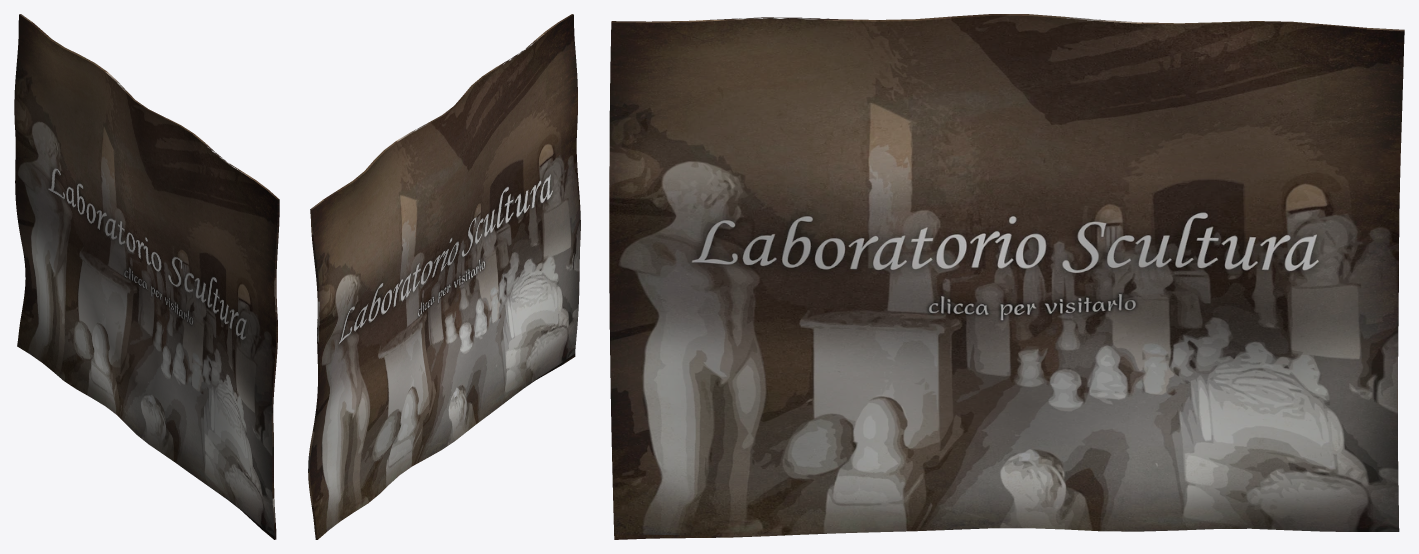
Rendered from labscultura-v1.glb.
3 renders of one model, left to right at view 1: azimuth 30°, elevation 25°; view 2: azimuth 150°, elevation 25°; view 3: azimuth 270°, elevation 25°, orthographic. The views are drawn at different scales.
Visible parts, largest first — view 1: LabArt: Poster lab arte; view 2: LabArt: Poster lab arte; view 3: LabArt: Poster lab arte.
Boxes of the visible parts, x1,y1,x2,y2 form: LabArt: Poster lab arte: (14, 14, 279, 539); LabArt: Poster lab arte: (308, 14, 580, 539); LabArt: Poster lab arte: (609, 14, 1404, 539).
Bounding box in the file's own units: 0.036 × 0.6251 × 0.8637.
1 material, 1 textured.
